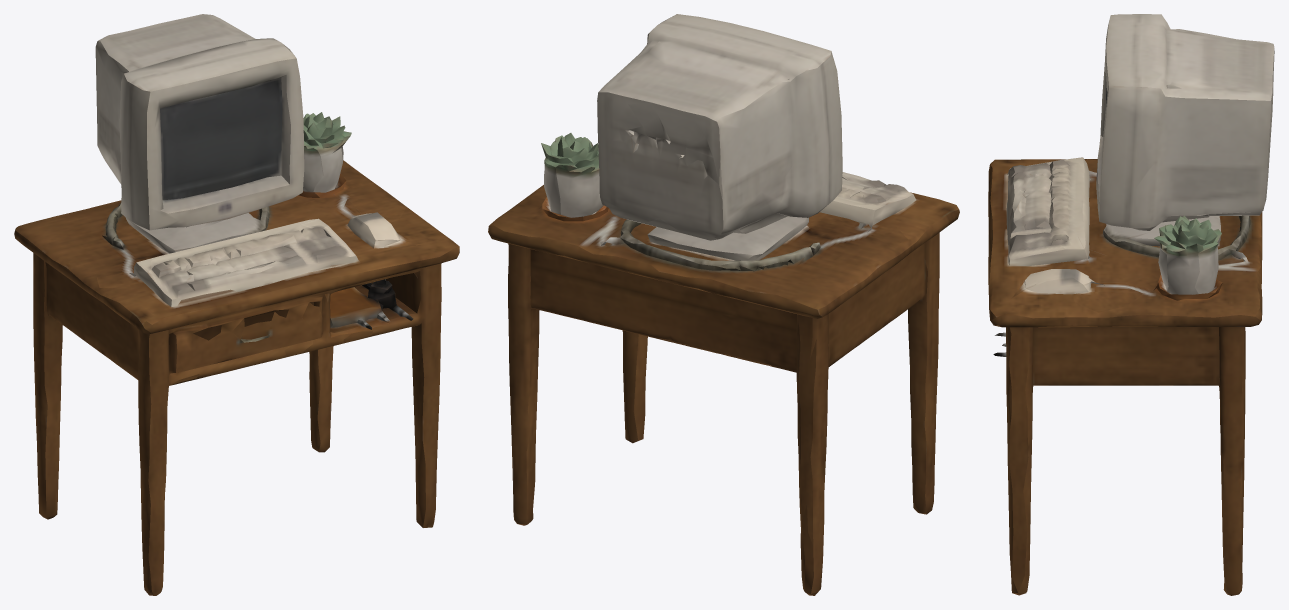
The model's file is computer.glb.
3 renders of one model, left to right at view 1: azimuth 30°, elevation 25°; view 2: azimuth 150°, elevation 25°; view 3: azimuth 270°, elevation 25°, orthographic. The views are drawn at different scales.
Parts seen in each view (by area): view 1: world; view 2: world; view 3: world.
Part boxes in pixels (bbox=[...]): world: bbox=[14, 14, 459, 595]; world: bbox=[488, 14, 959, 595]; world: bbox=[988, 14, 1274, 595].
Bounding box in the file's own units: 0.45 × 0.6222 × 0.3439.
Materials: 1 (1 with a texture image).
